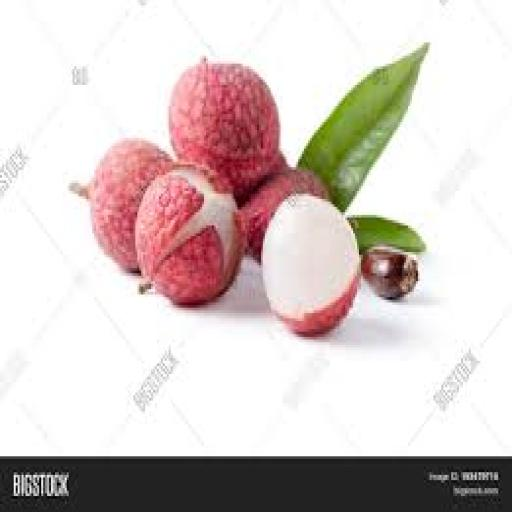lychee: (169, 59, 284, 201), (136, 165, 245, 305), (261, 194, 358, 334), (71, 138, 172, 270), (242, 170, 329, 259)
